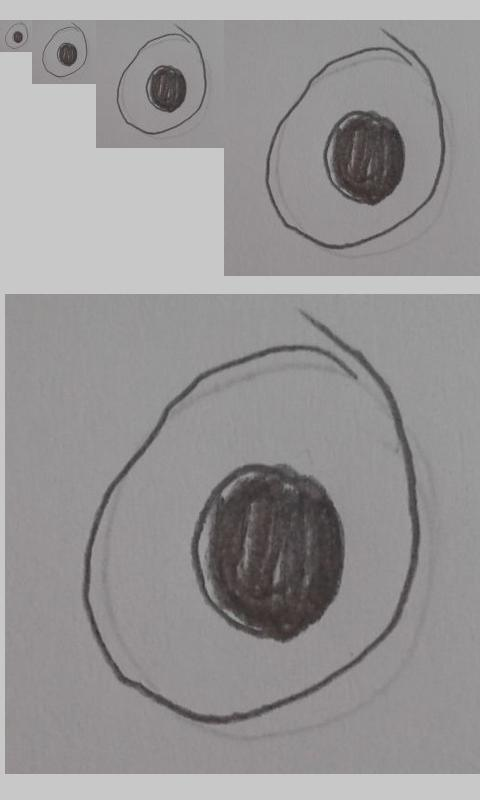radio_button: (81, 319, 423, 726), (263, 41, 447, 252), (116, 28, 208, 135), (41, 24, 88, 78), (4, 22, 29, 50)
